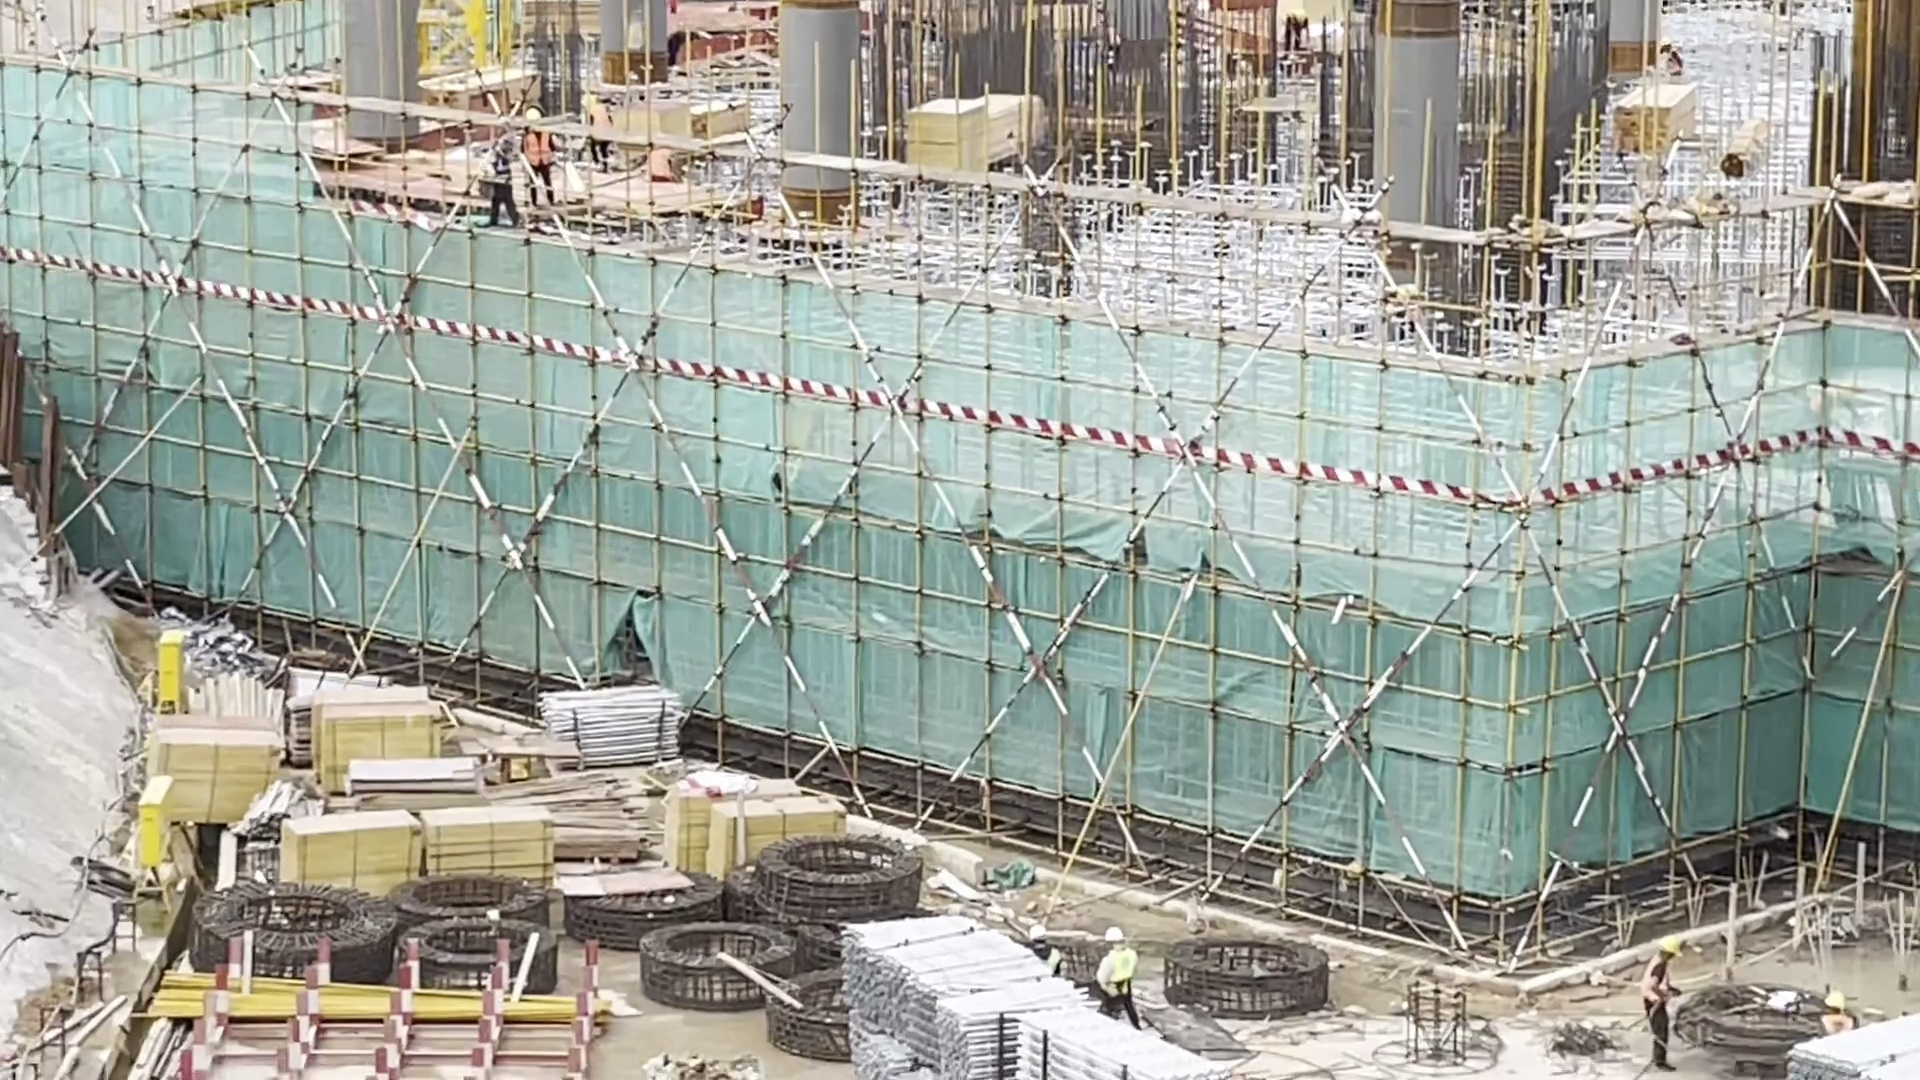helmet: (1660, 935, 1681, 954), (1827, 993, 1843, 1007), (1104, 929, 1122, 941), (1030, 927, 1044, 940), (527, 109, 539, 120), (1660, 37, 1671, 46)
person: (1646, 935, 1682, 1080), (1096, 927, 1145, 1028), (482, 132, 524, 229), (525, 110, 560, 209), (582, 92, 619, 175), (1025, 926, 1067, 977), (1818, 993, 1866, 1034), (1282, 11, 1315, 53), (1657, 38, 1688, 80), (645, 147, 677, 181)
vest: (1106, 950, 1134, 995), (1648, 956, 1668, 1003), (528, 134, 552, 165), (650, 147, 671, 176), (1034, 945, 1057, 971), (1822, 1014, 1852, 1033), (588, 106, 612, 127)
